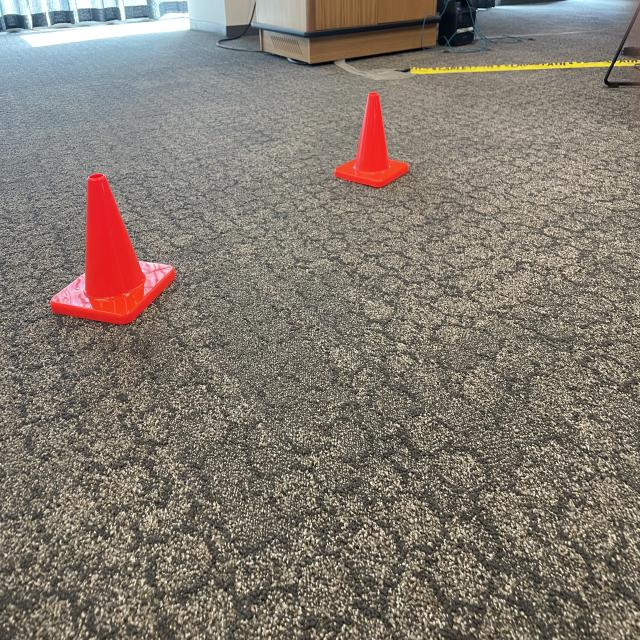Traffic Cone: (38, 166, 184, 338), (329, 88, 412, 189)
